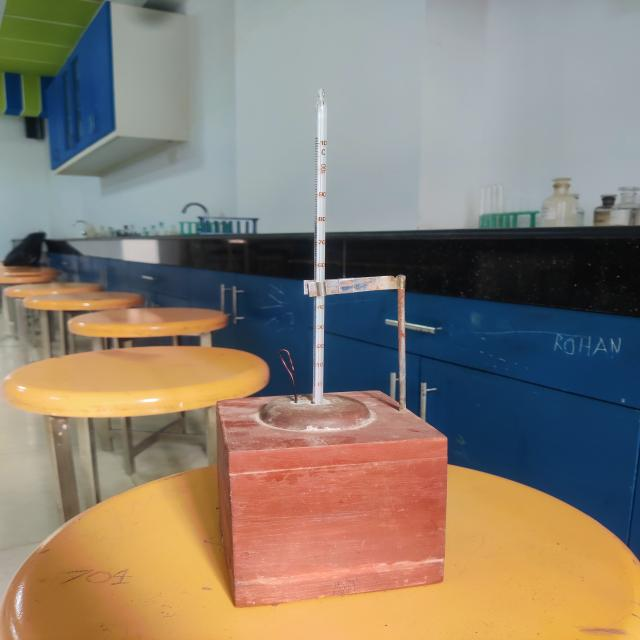Calorimeter: (148, 72, 476, 619)
